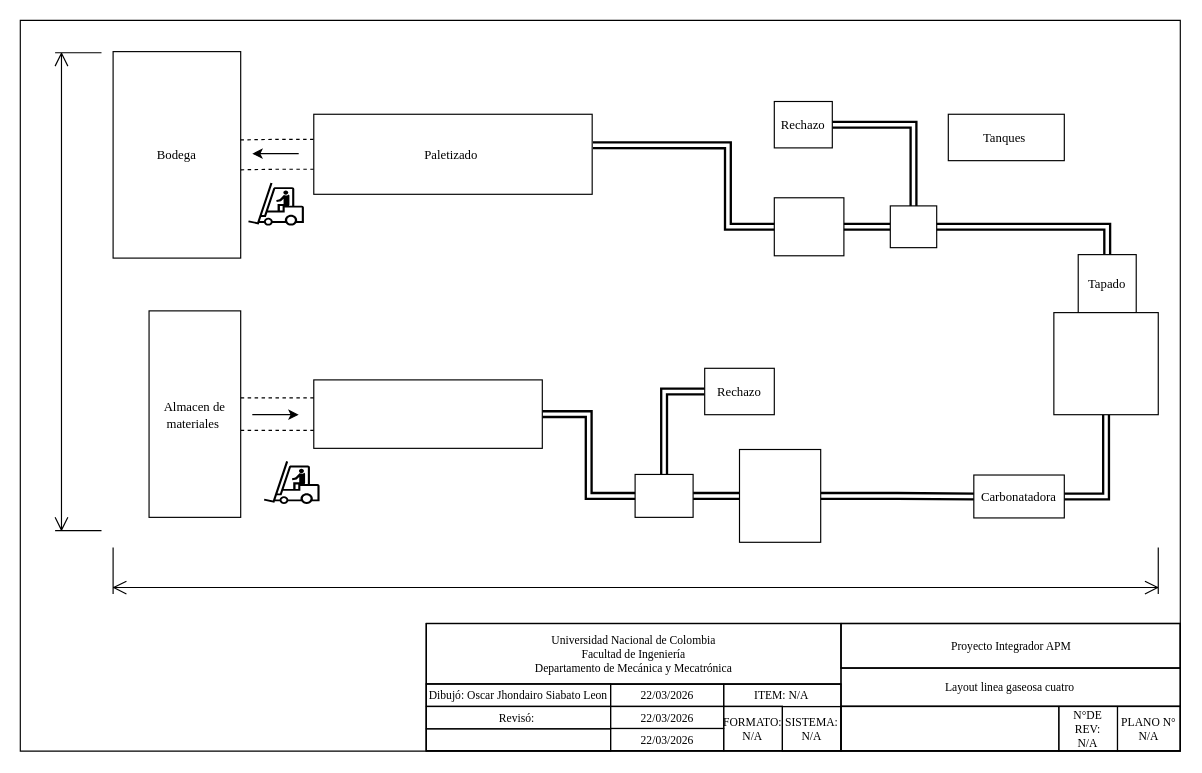
Image size: 1202x773. Some labels were removed from this diagram. Here are the shapes that lost their labels. From the top down, the box of each, then its label:
(773, 197, 844, 256): Etiquetado
(889, 205, 937, 248): Inspección nivel
(54, 52, 102, 531): 25 m
(1053, 311, 1158, 415): Llenado
(313, 379, 542, 448): Soplado
(634, 473, 693, 517): Inspeccion de soplado
(738, 448, 821, 542): Enjuague
(112, 546, 1158, 594): 45 m
(425, 728, 611, 751): Aprobó:
(840, 705, 1059, 751): PIEZA: N/A
